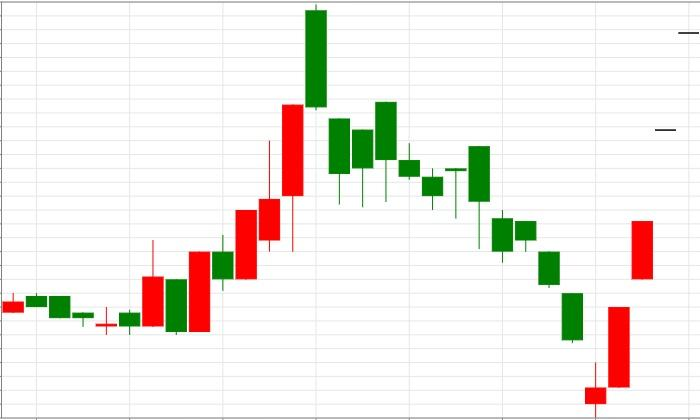three_white_soldiers_rise: (469, 146, 654, 418)
